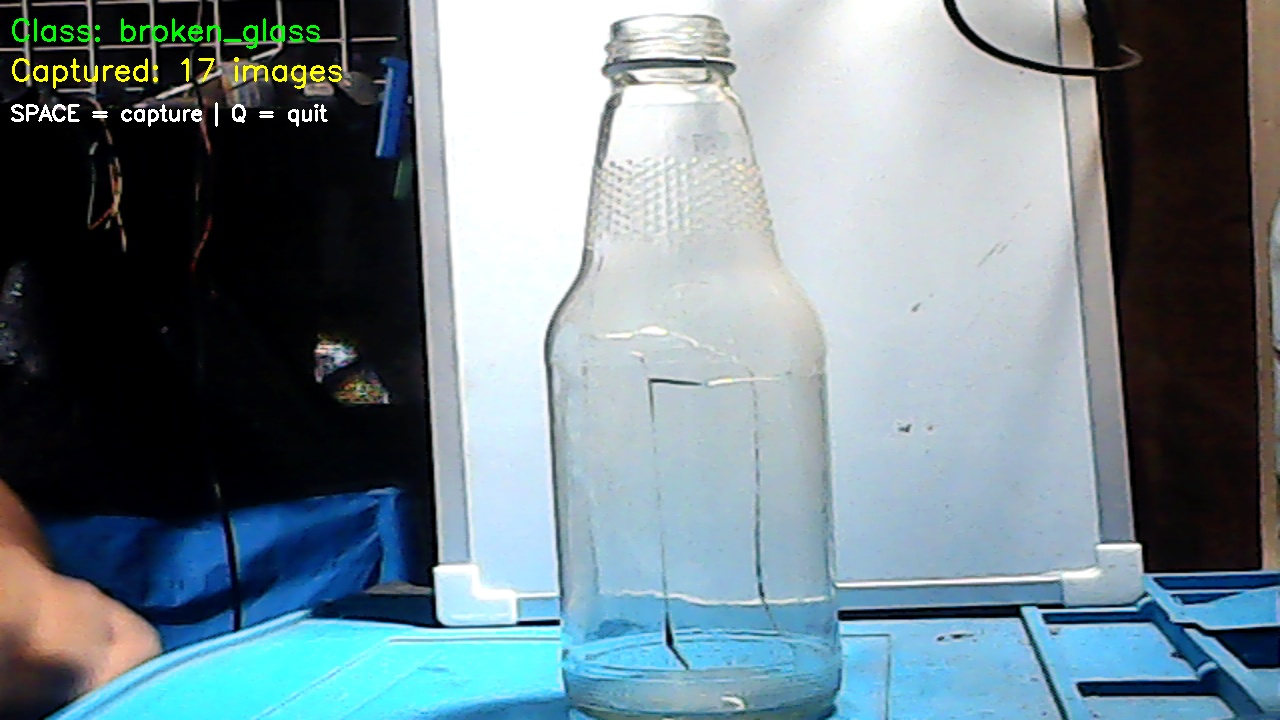broken_glass: (578, 25, 846, 718)
